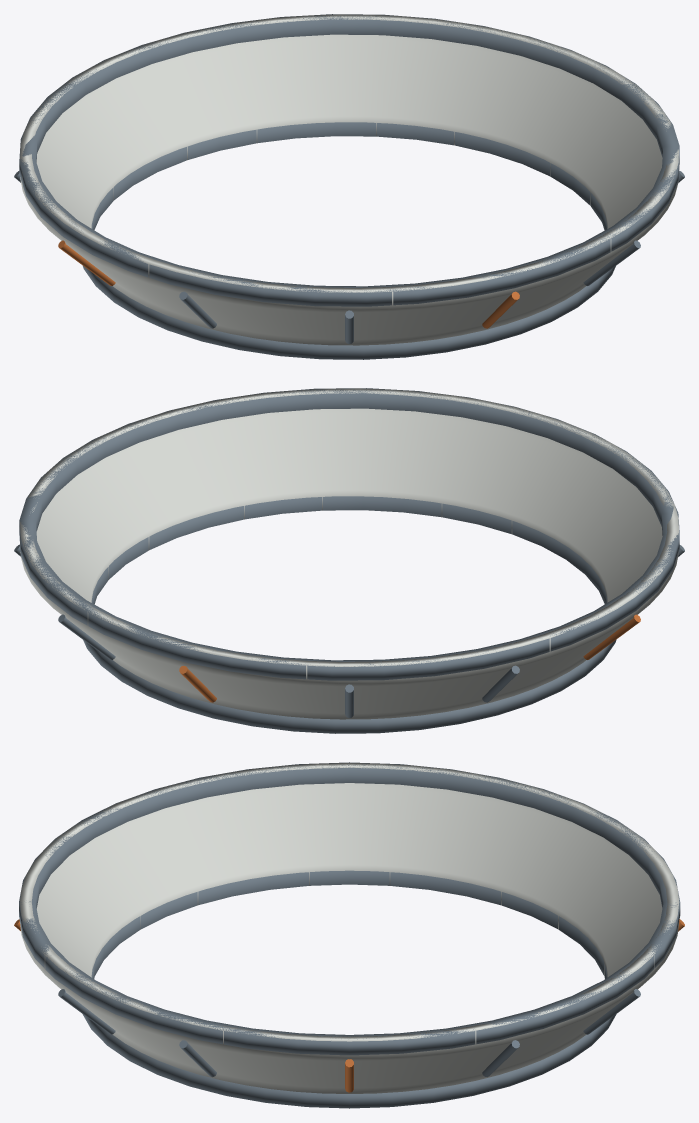
Rendered from jugre_adapter_250_305.glb.
The picture shows the model from 3 angles, top to bottom: view 1: azimuth 30°, elevation 25°; view 2: azimuth 150°, elevation 25°; view 3: azimuth 270°, elevation 25°; orthographic projection.
Parts seen in each view (by area): view 1: jugre_adapter_250_305.mesh_Pale_thermal_blanket, jugre_adapter_250_305.mesh_Machined_steel, jugre_adapter_250_305.mesh_Spray-on_insulation; view 2: jugre_adapter_250_305.mesh_Pale_thermal_blanket, jugre_adapter_250_305.mesh_Machined_steel, jugre_adapter_250_305.mesh_Spray-on_insulation; view 3: jugre_adapter_250_305.mesh_Pale_thermal_blanket, jugre_adapter_250_305.mesh_Machined_steel.
Part boxes in pixels (left/top/right/bottom): jugre_adapter_250_305.mesh_Pale_thermal_blanket: left=20, top=14, right=678, bottom=345; jugre_adapter_250_305.mesh_Machined_steel: left=14, top=14, right=684, bottom=359; jugre_adapter_250_305.mesh_Spray-on_insulation: left=58, top=240, right=519, bottom=328; jugre_adapter_250_305.mesh_Pale_thermal_blanket: left=20, top=388, right=678, bottom=719; jugre_adapter_250_305.mesh_Machined_steel: left=14, top=388, right=684, bottom=733; jugre_adapter_250_305.mesh_Spray-on_insulation: left=179, top=614, right=640, bottom=702; jugre_adapter_250_305.mesh_Pale_thermal_blanket: left=20, top=763, right=679, bottom=1093; jugre_adapter_250_305.mesh_Machined_steel: left=19, top=762, right=680, bottom=1108.
Bounding box in the file's own units: 3.1 × 0.4665 × 3.1.
